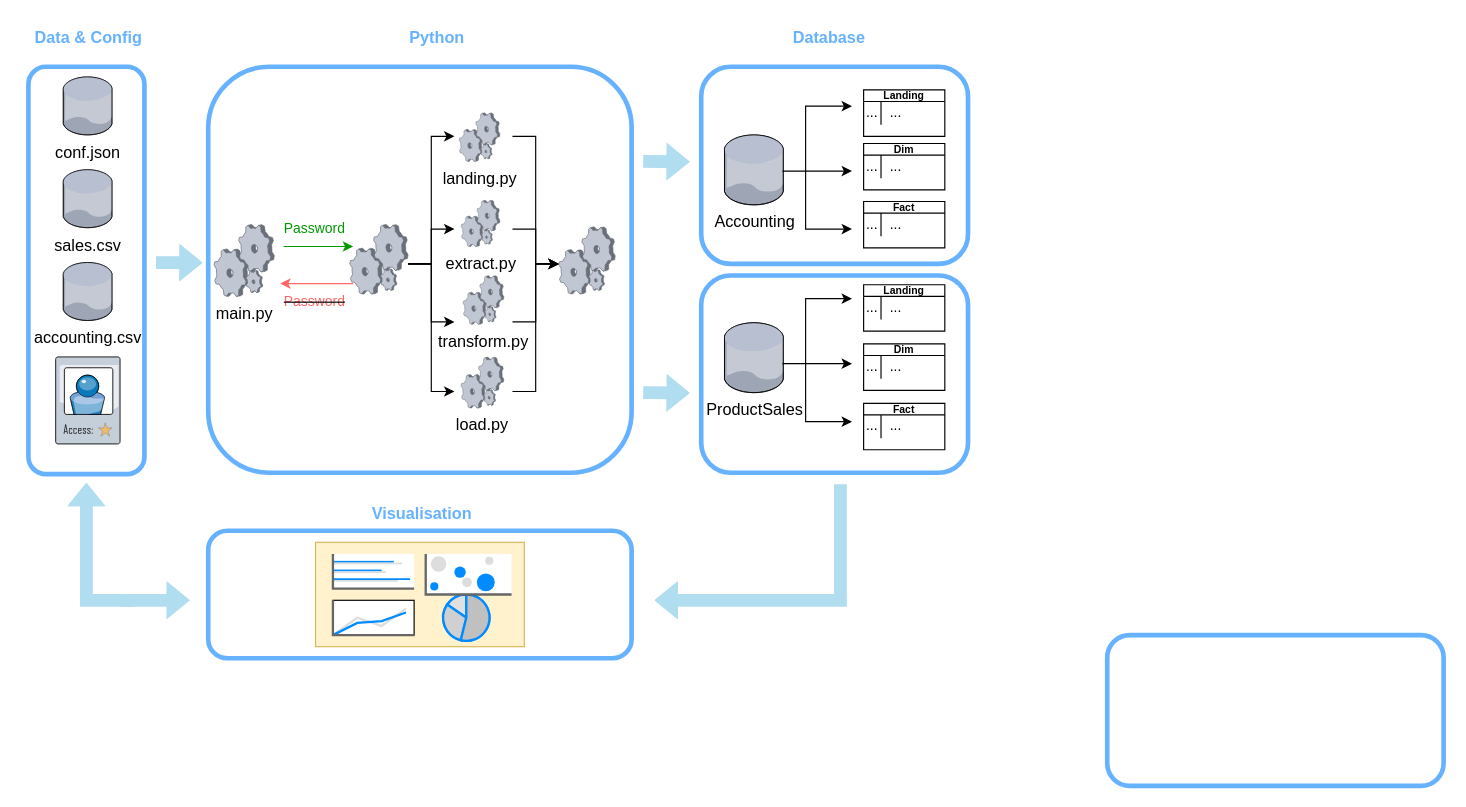
Image size: 1466x807. Some labels were removed from this diagram. Here are the shapes that lost their labels. From the top down, the centre of each, then its label:
the point at 378,258: controller.py
the point at 586,259: helper.py
the point at 87,399: User
